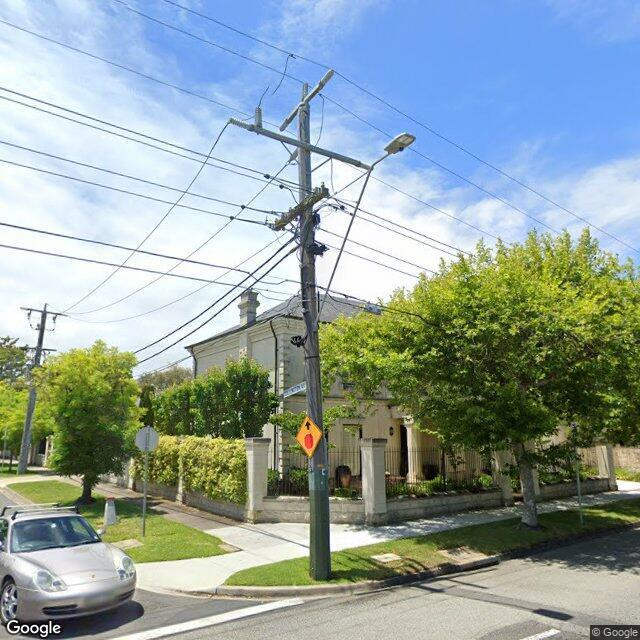HV-transmission: (228, 82, 371, 170), (278, 69, 334, 131), (28, 303, 56, 323)
crossarm: (248, 125, 361, 167), (272, 187, 329, 232), (285, 82, 324, 124), (20, 307, 68, 317), (20, 346, 57, 352)
streetlight: (312, 133, 417, 332)
timber-pole: (298, 102, 330, 580), (18, 311, 46, 474)
